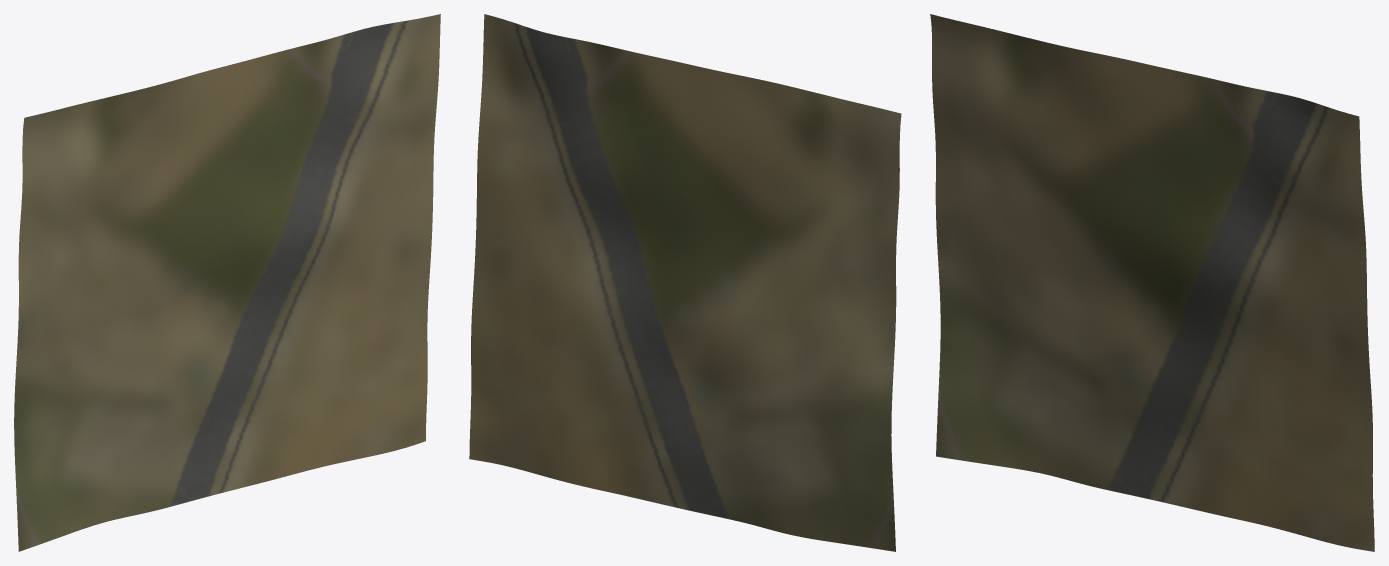
Rendered from ground_mid_04_02.obj.
3 views of the same model, side by side, from view 1: azimuth 30°, elevation 25°; view 2: azimuth 150°, elevation 25°; view 3: azimuth 330°, elevation 25° (orthographic). The views are drawn at different scales.
Parts seen in each view (by area): view 1: ground_mid_04_02; view 2: ground_mid_04_02; view 3: ground_mid_04_02.
Part boxes in pixels (left/top/right/bottom): ground_mid_04_02: left=14, top=14, right=440, bottom=551; ground_mid_04_02: left=469, top=14, right=901, bottom=551; ground_mid_04_02: left=930, top=14, right=1374, bottom=551.
Bounding box in the file's own units: 200 × 200 × 14.37.
1 material, 1 textured.
